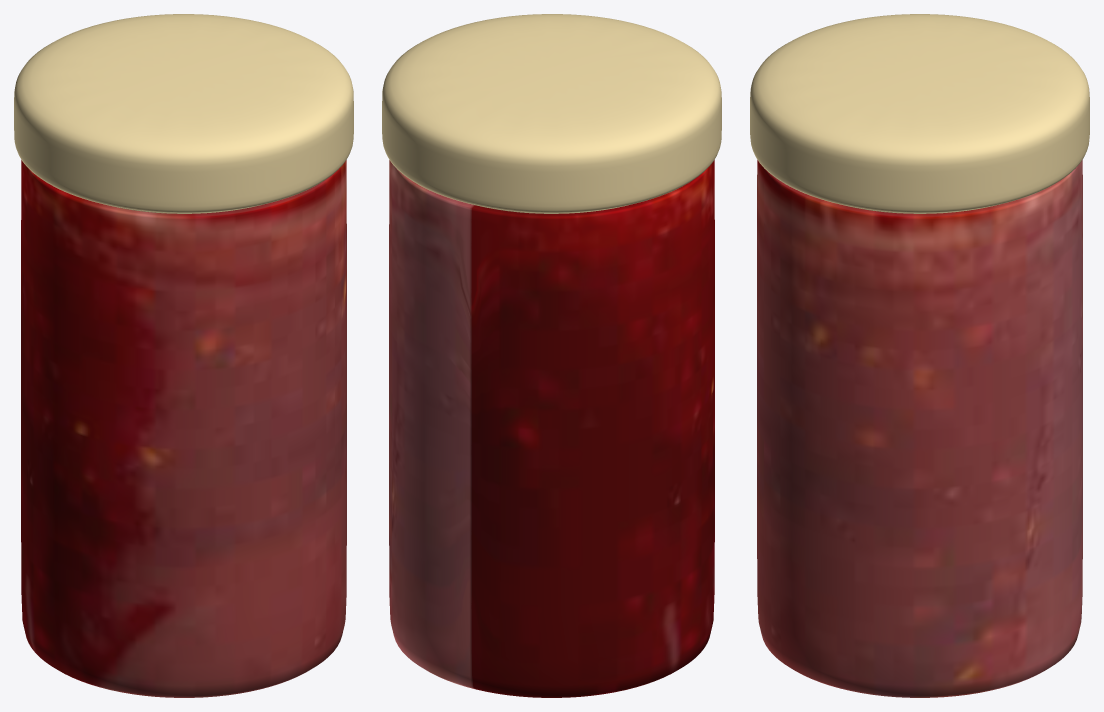
The model's file is untitledExport.obj.
3 renders of one model, left to right at view 1: azimuth 30°, elevation 25°; view 2: azimuth 150°, elevation 25°; view 3: azimuth 270°, elevation 25°, orthographic.
Parts seen in each view (by area): view 1: Jar; view 2: Jar; view 3: Jar.
Boxes of the visible parts, left/top/right/bottom form: Jar: left=14, top=14, right=353, bottom=697; Jar: left=382, top=14, right=721, bottom=697; Jar: left=750, top=14, right=1089, bottom=697.
Bounding box in the file's own units: 0.8582 × 1.57 × 0.8582.
Materials: 3 (2 with a texture image).
